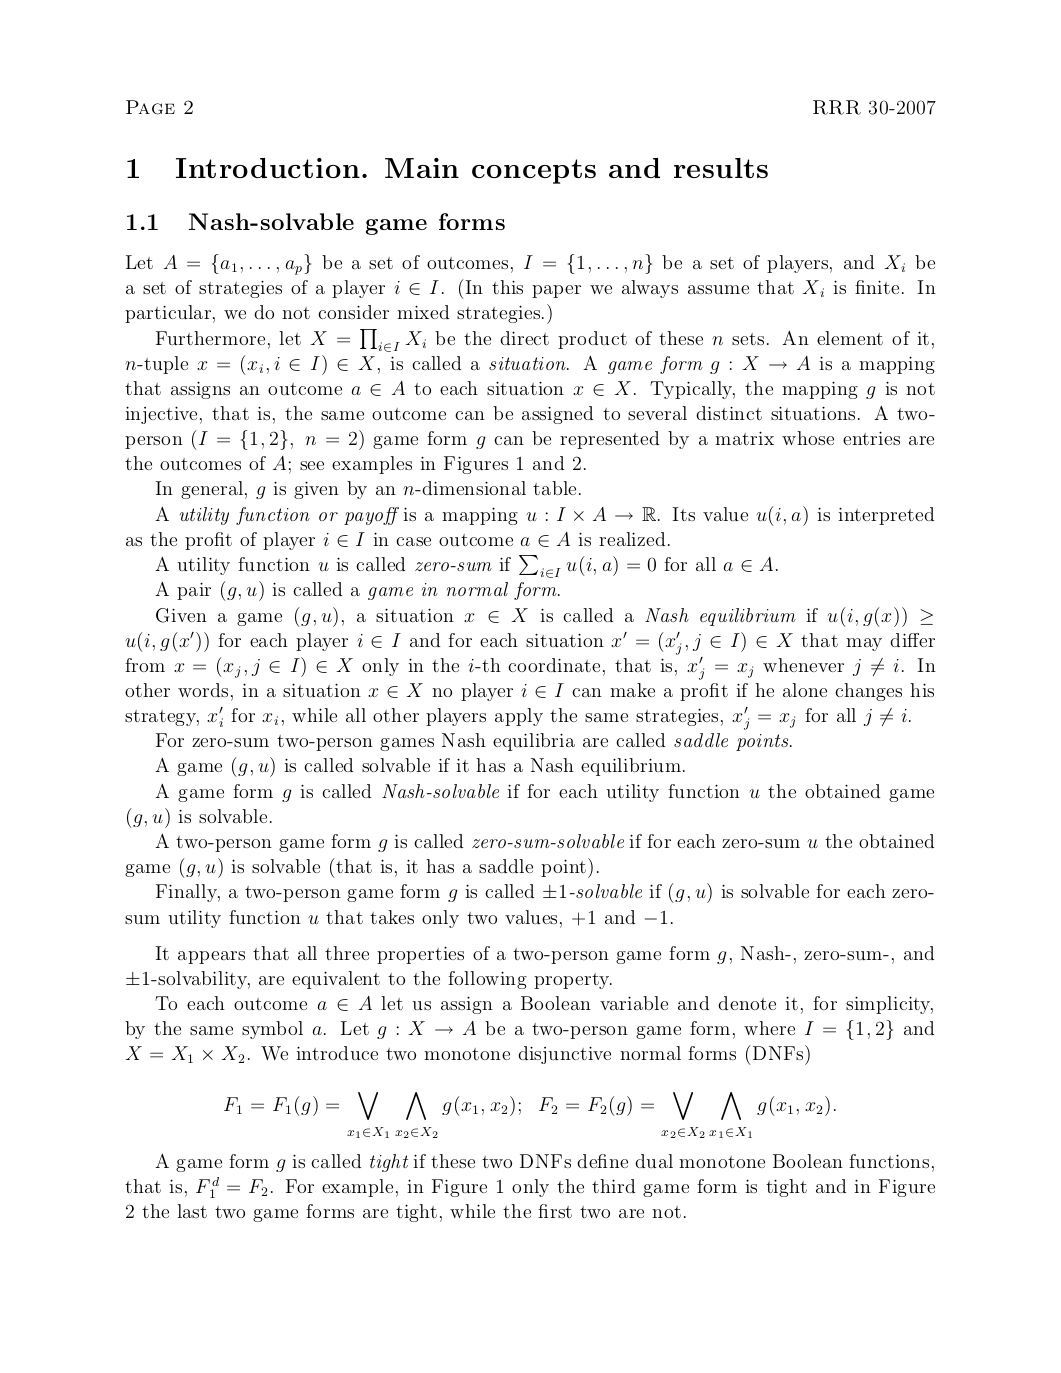formula: (224, 1092, 835, 1137)
